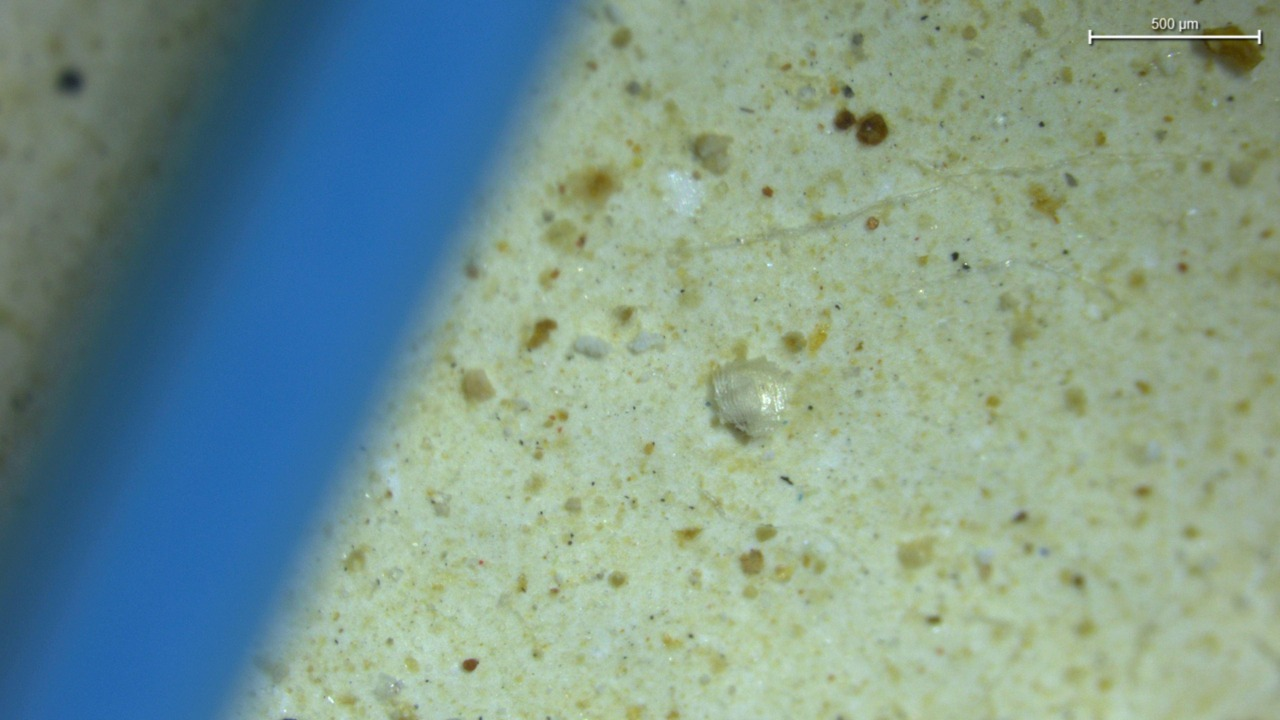microplastic_fragment: (712, 358, 791, 437), (693, 133, 733, 174), (574, 336, 610, 358), (630, 331, 663, 351)
